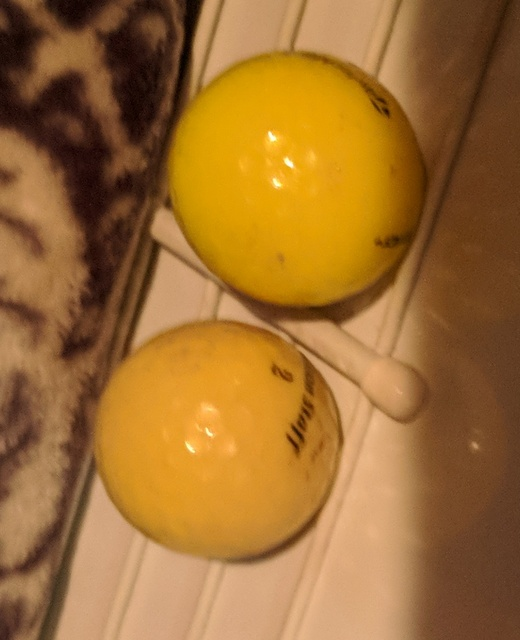ball: (96, 323, 351, 563)
